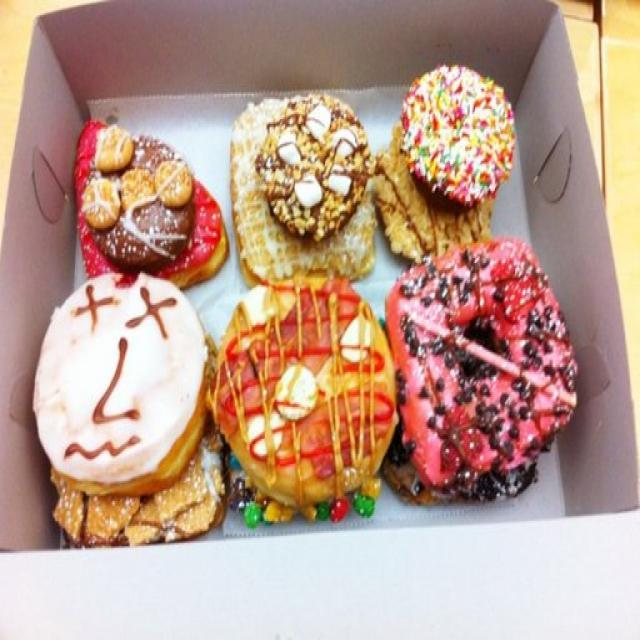Donuts: (30, 62, 592, 536)
